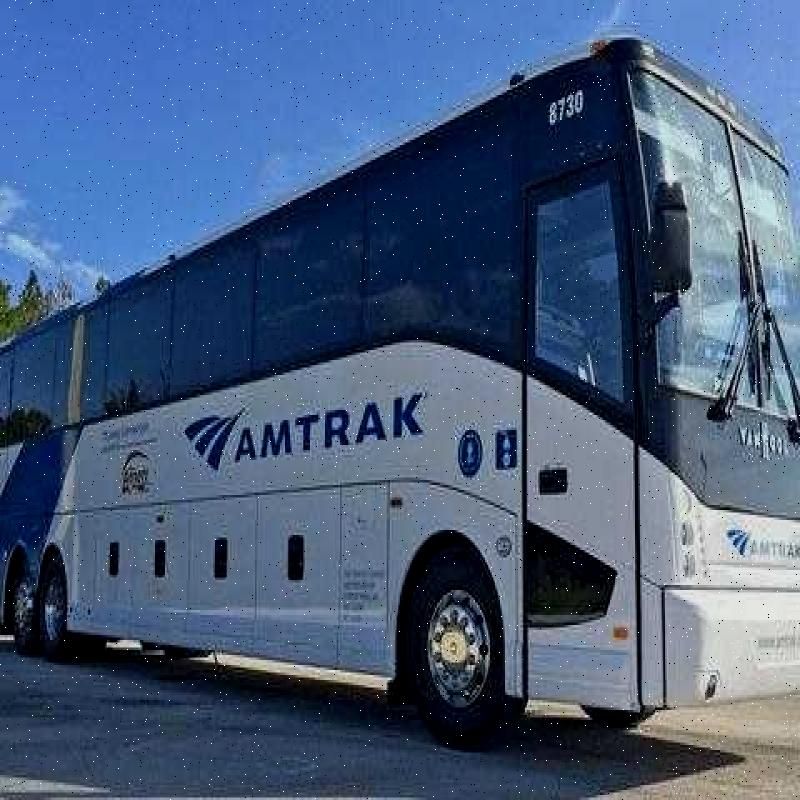bus: (7, 19, 795, 768)
